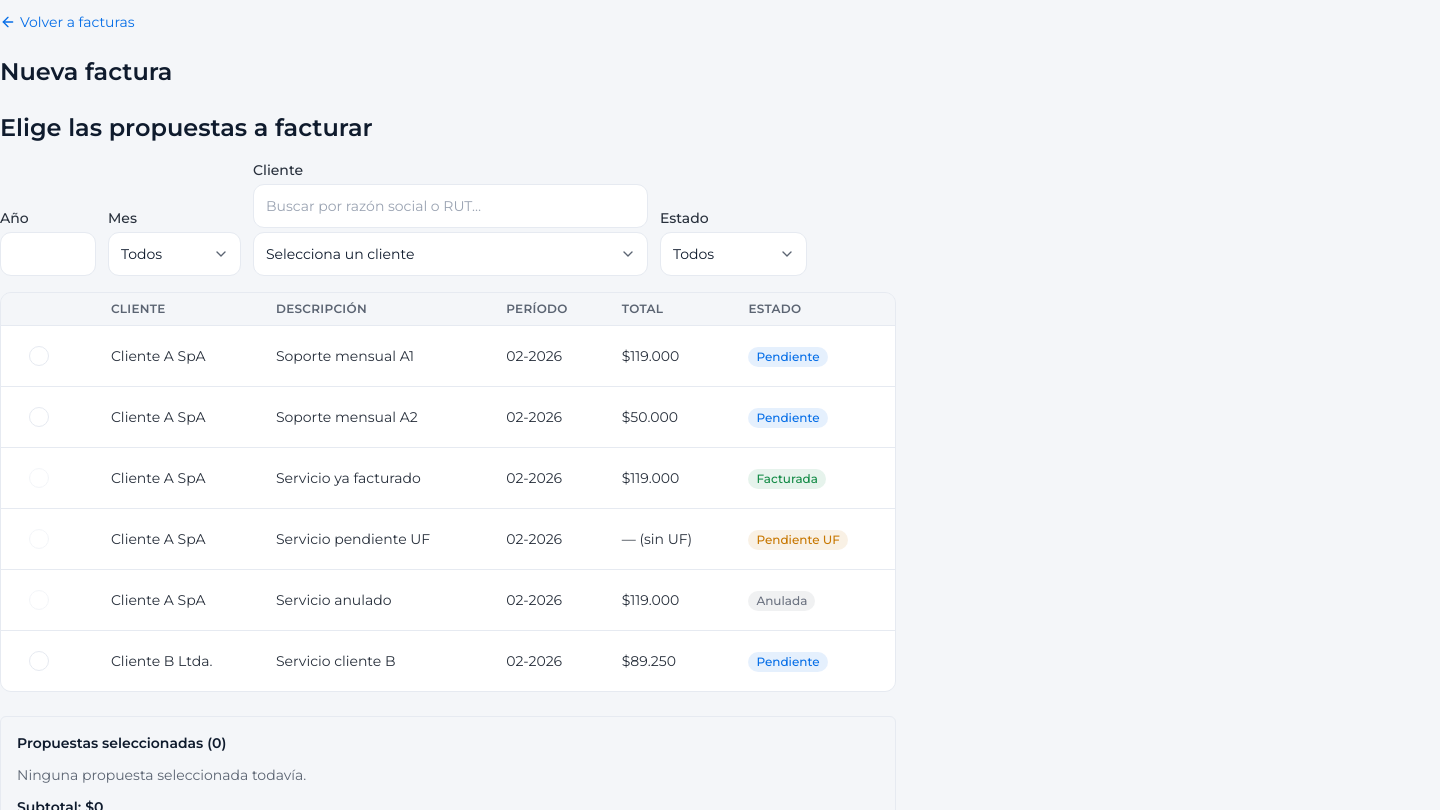
NuevaFactura › un 409 FACTURA_DUPLICADA aterriza en el campo N° factura
Click the checkbox named "Soporte mensual A1": (39, 356) [29, 346, 49, 366]
(page scrolled)
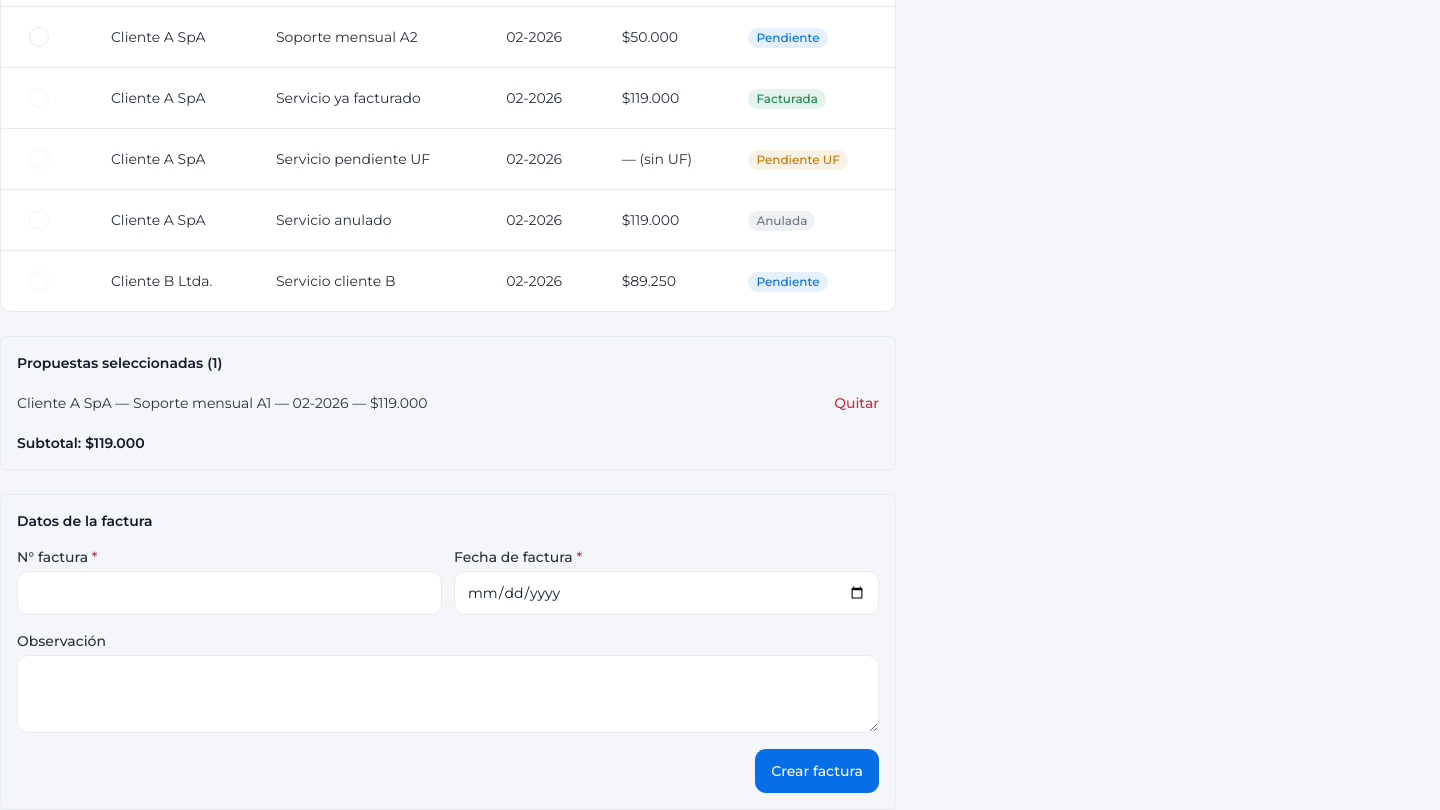
In the field labelled "N° factura *": (230, 593) [17, 571, 442, 615], type "F-100"
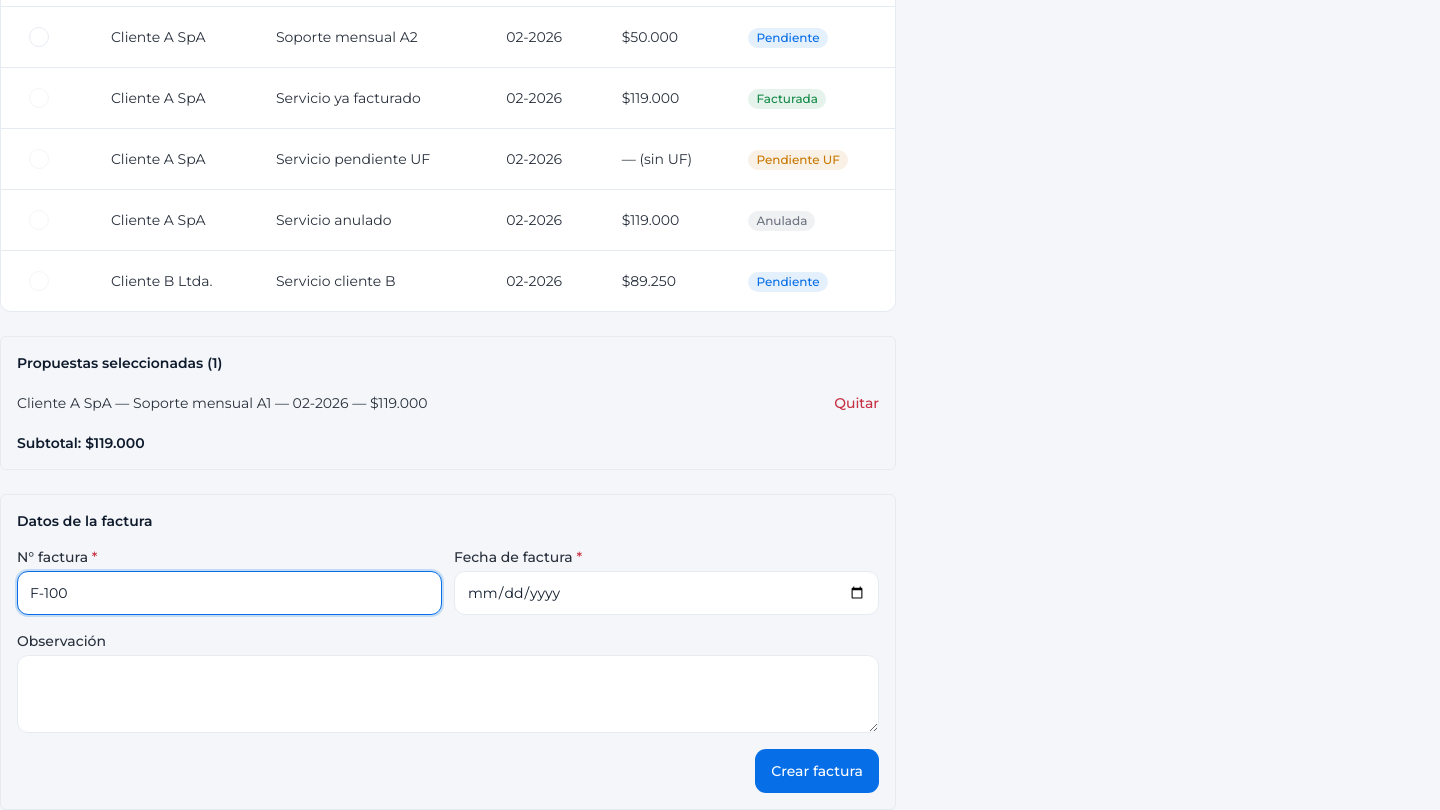
In the date field labelled "Fecha de factura *": (666, 593) [454, 571, 879, 615], type "2026-03-01"
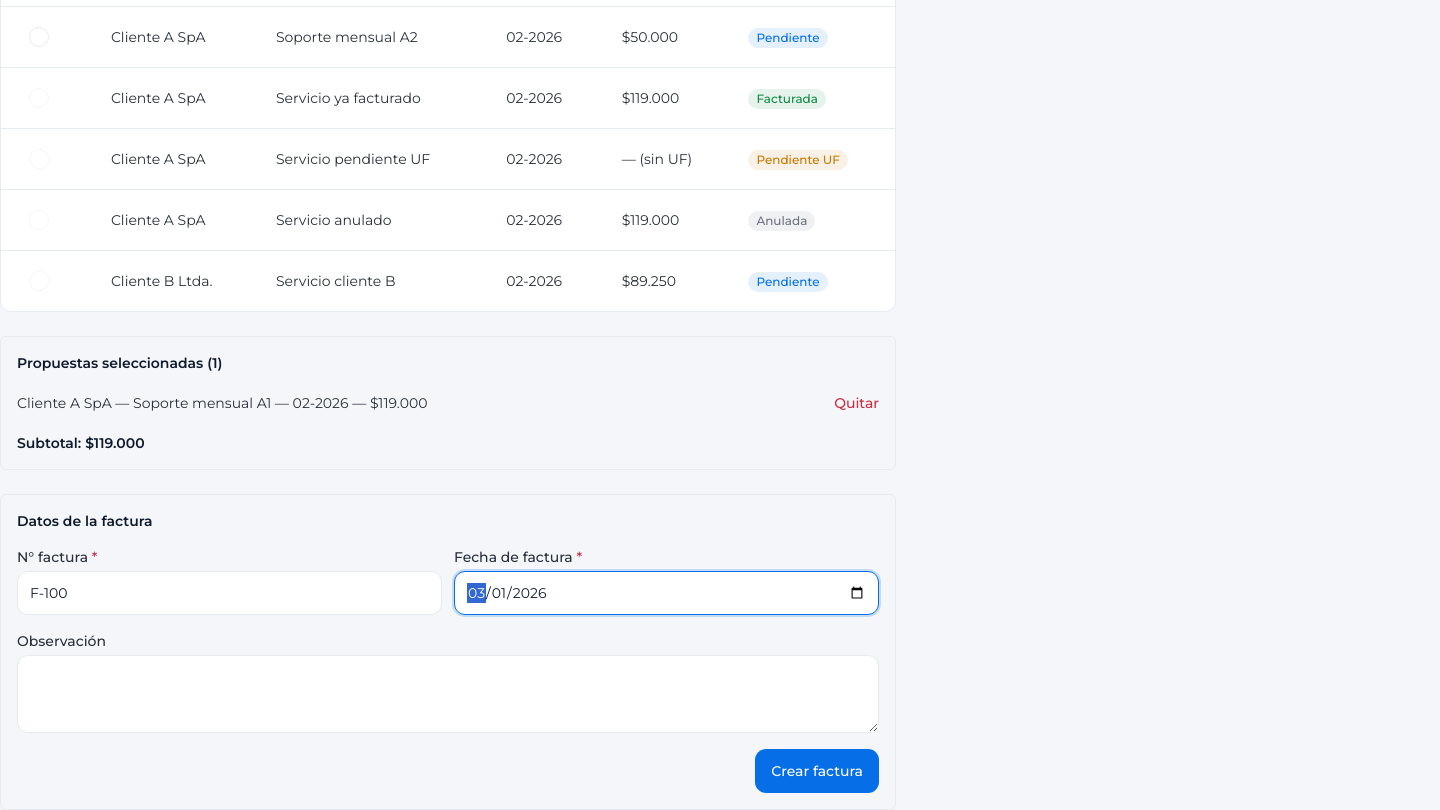
Click the button "Crear factura": (817, 771) [755, 749, 879, 793]
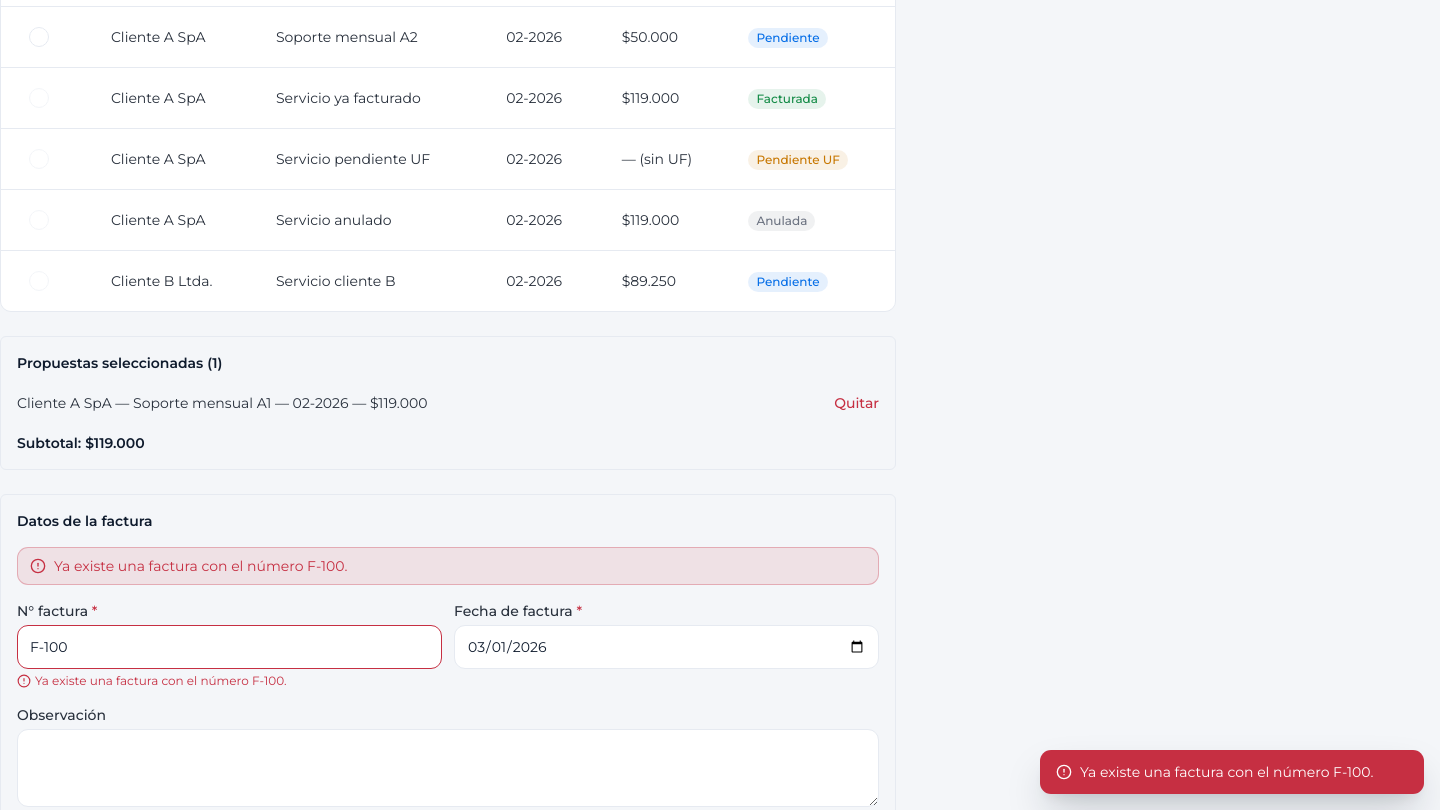
Now the text "Ya existe una factura con el número F-100." below "Datos de la factura" is shown, box [54, 557, 348, 575]
